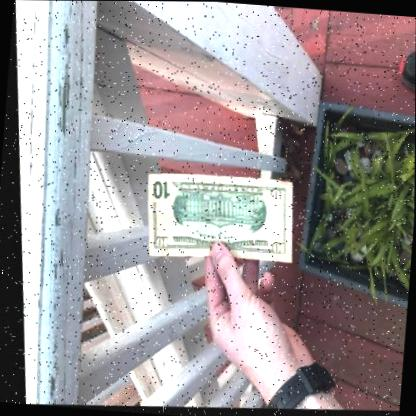ten-back: (136, 166, 296, 268)
